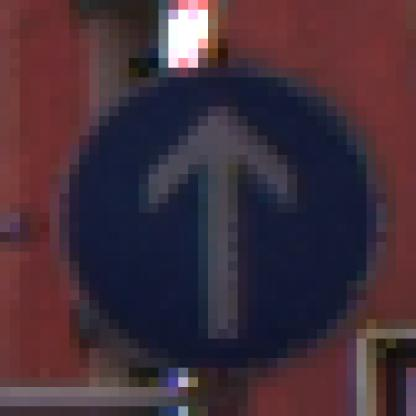AheadOnly: (61, 49, 368, 359)
